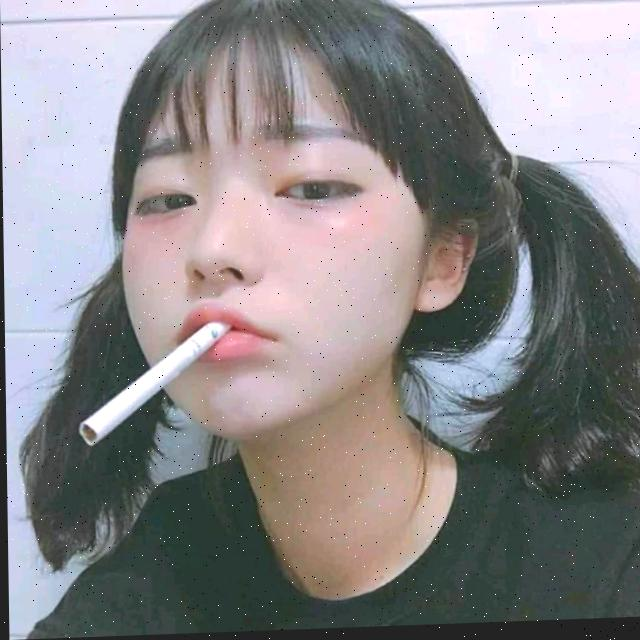cigarette: (75, 321, 234, 448)
